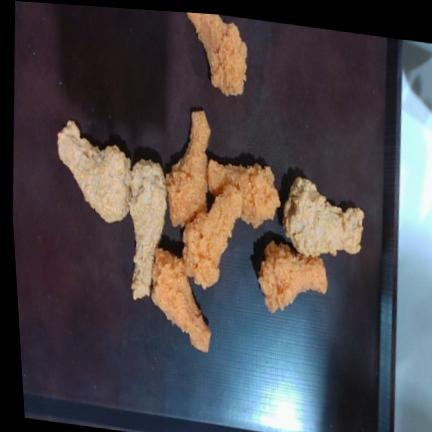chicken: (57, 120, 130, 222), (282, 176, 364, 256), (183, 184, 242, 288), (152, 249, 210, 352), (129, 159, 166, 299), (166, 110, 210, 226), (207, 159, 280, 228), (258, 241, 327, 312), (187, 12, 246, 95)
